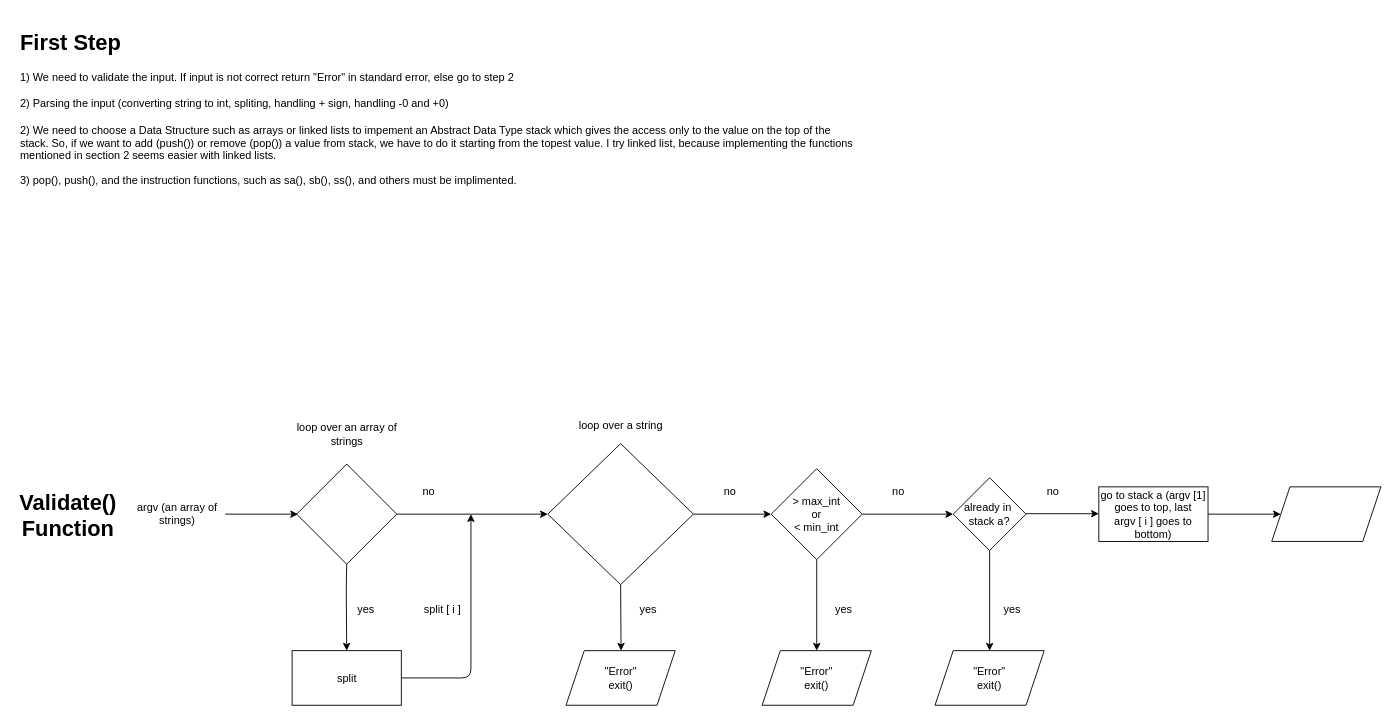
Some shapes in this 1397 by 721 pixel diagram are drawn without their labels. Each missing label, with the centre of its shape:
all inputs are valid: point (1326, 513)
loop over argv [ i ] or split [ i ] to see if is_digit() is 0 for a character: point (620, 514)
loop, if argv [ i ] includes space: point (346, 513)
